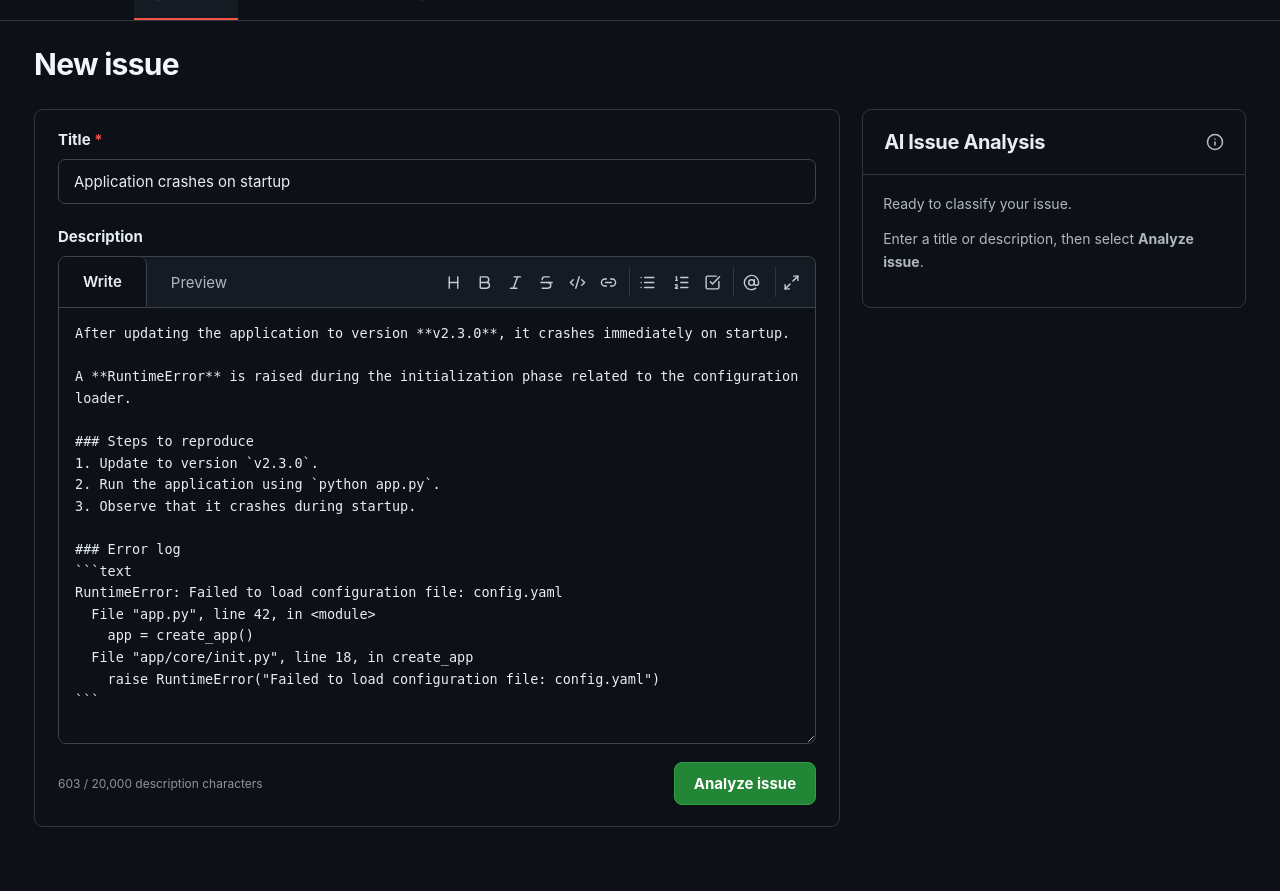
Test: App integration › clears the prediction when the issue changes
(page scrolled)
Click the button "Analyze issue" at (745, 784), box [674,762,816,805]
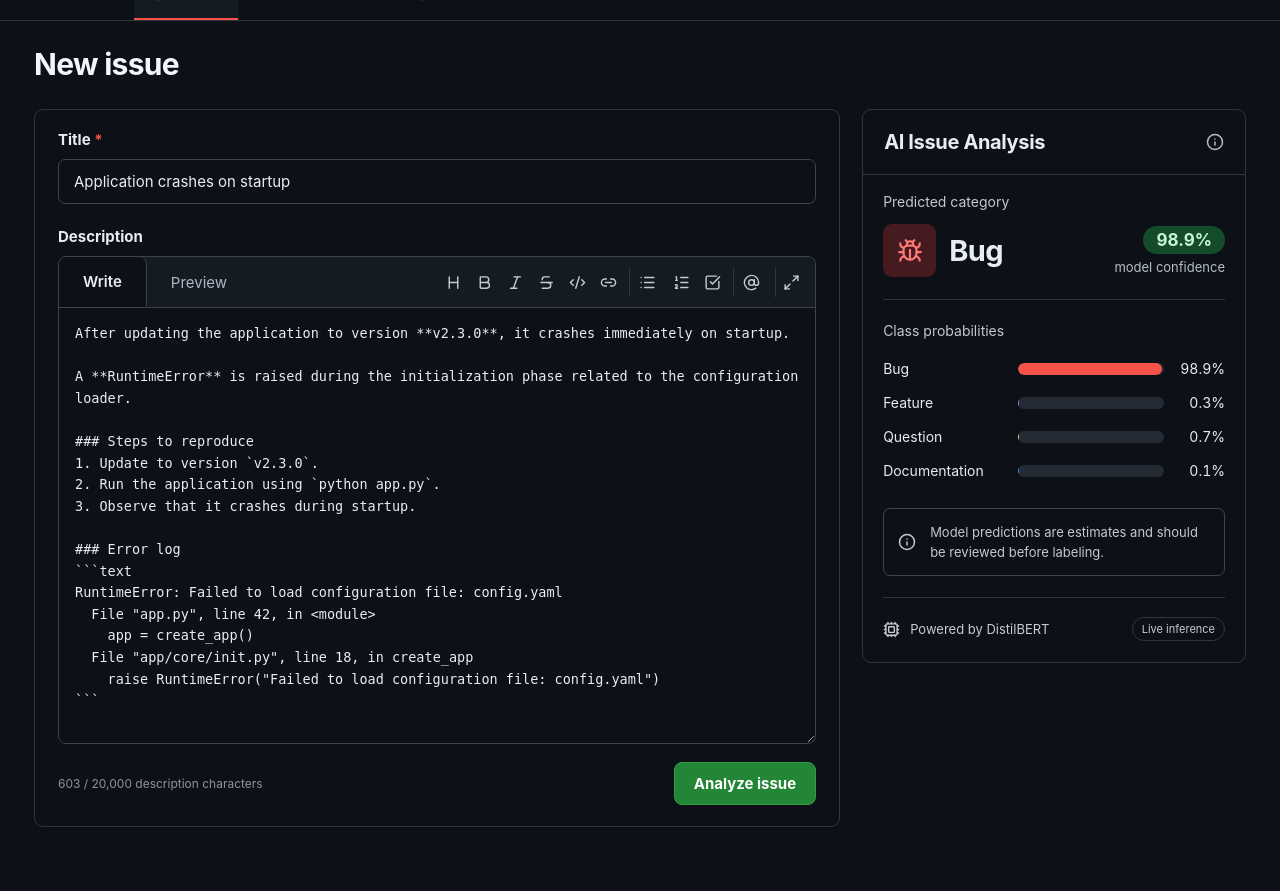
Result: the text "98.9%" is shown 2 times at [1144,226,1225,254]; [1174,360,1225,377]
Type " updated" into the field labelled "Title *" at (437, 182), box [58,159,816,204]
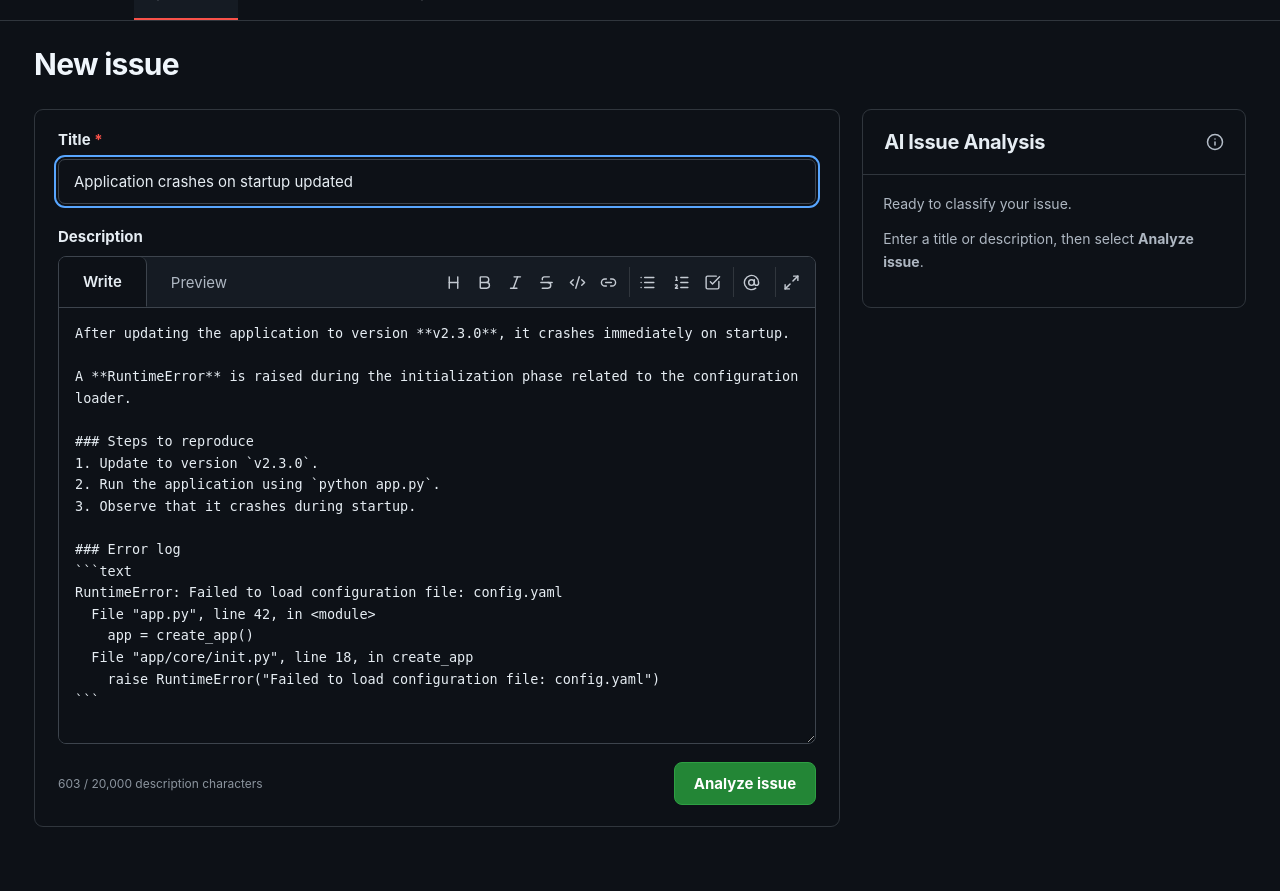
Result: the text "98.9%" is not shown
Result: the text "Ready to classify your issue." is shown at [883,195,1072,212]
